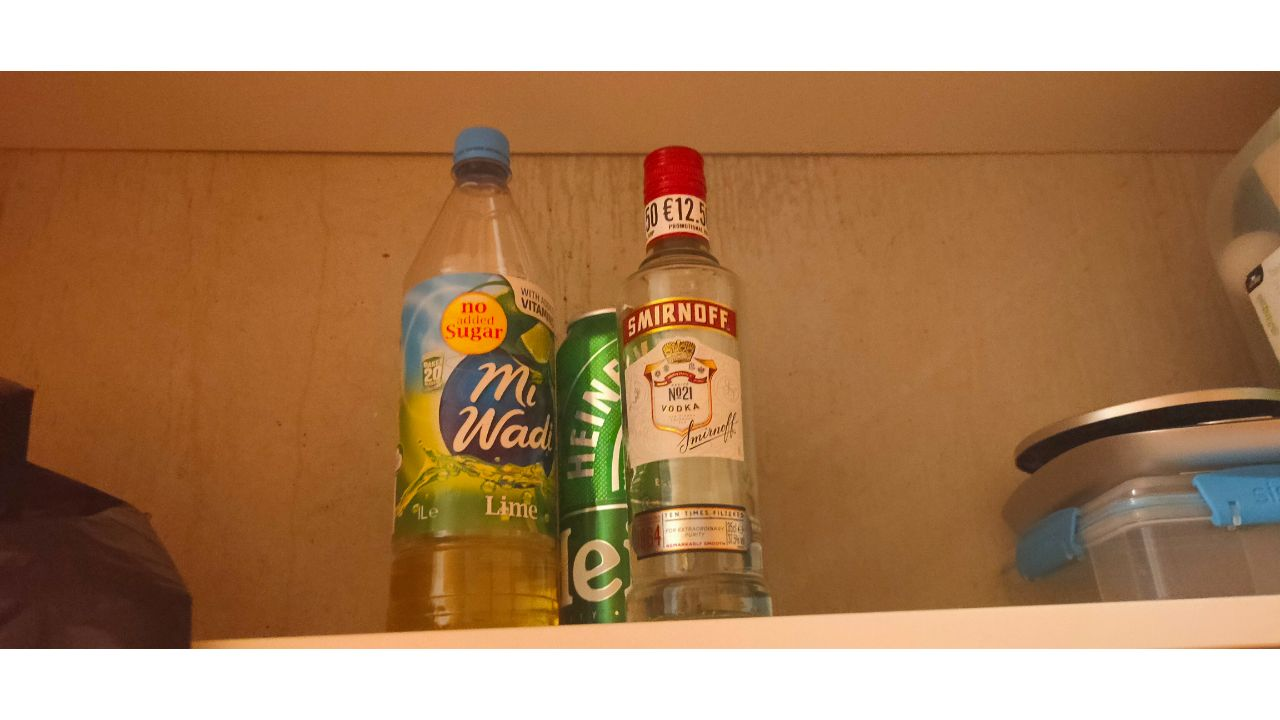Can: (553, 308, 677, 620)
